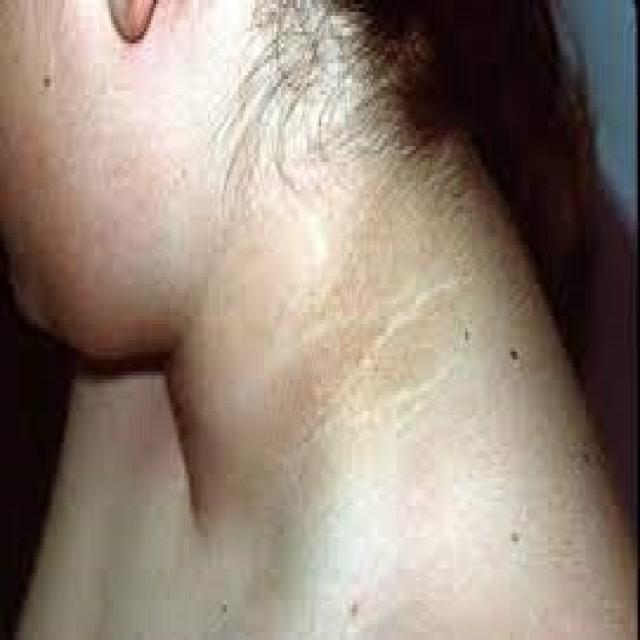Acanthosis Nigricans: (180, 134, 534, 557)
